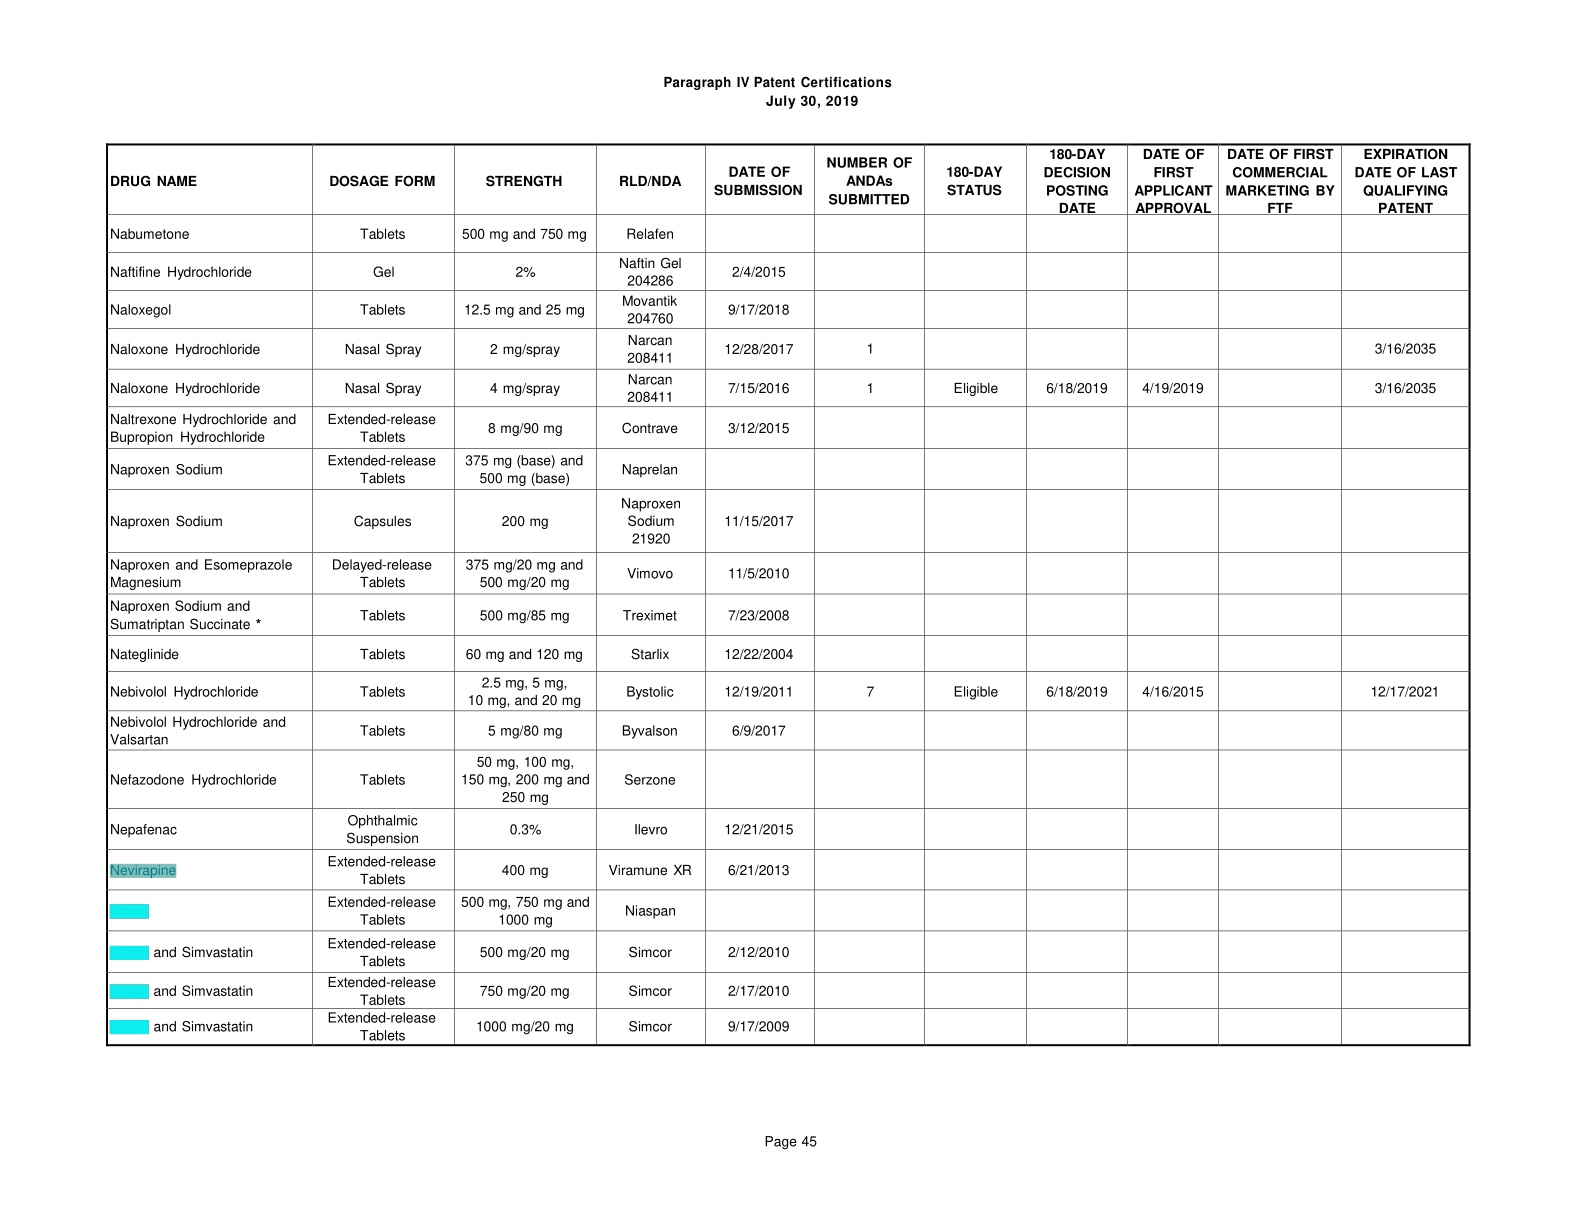full_lined: (105, 141, 1471, 1047)
